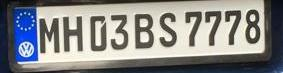0: (89, 15, 107, 51)
3: (109, 14, 130, 50)
7: (183, 10, 202, 47), (223, 9, 241, 45), (203, 10, 221, 45)
8: (243, 8, 261, 43)
B: (133, 12, 154, 48)
H: (61, 15, 86, 51)
M: (37, 15, 60, 53)
S: (156, 11, 179, 47)
